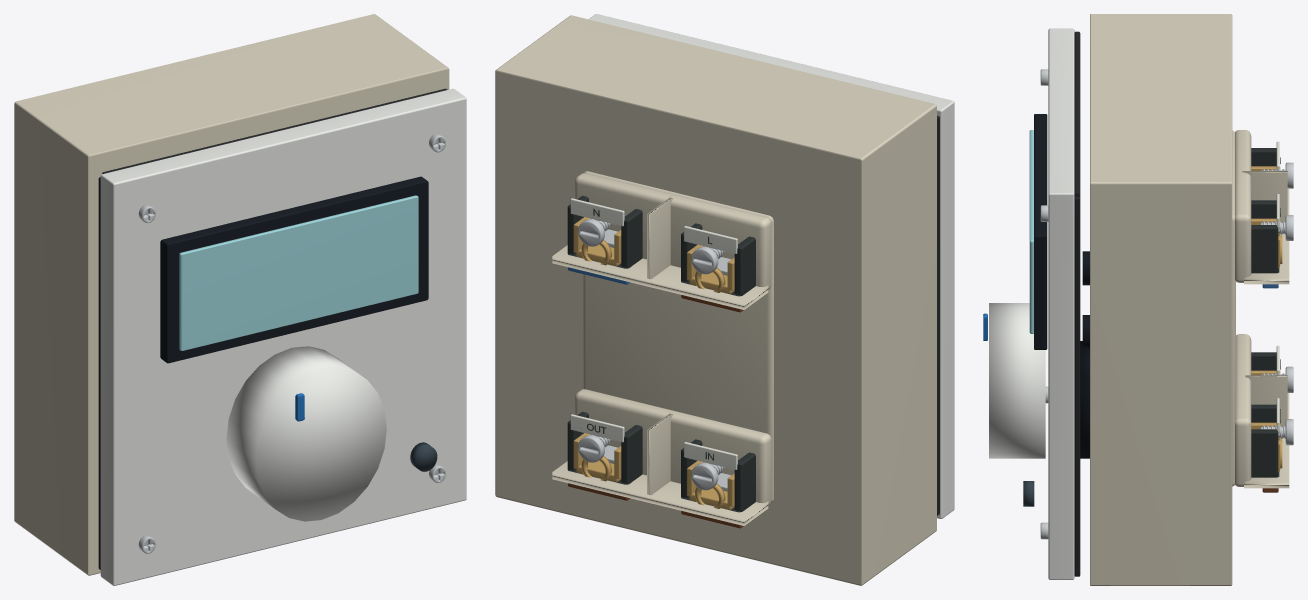
Rendered from smartrelay_default.glb.
The picture shows the model from 3 angles, left to right: view 1: azimuth 30°, elevation 25°; view 2: azimuth 150°, elevation 25°; view 3: azimuth 270°, elevation 25°; orthographic projection. The views are drawn at different scales.
Visible parts, largest first — view 1: part:cover, part:body, part:body.001, part:body.002, detail:enclosure-gasket-and-fixings · Detail rubber gasket, detail:enclosure-gasket-and-fixings · Detail zinc plated fix, part:body.003; view 2: part:body, part:terminals · Original 5a609f27, part:cover, detail:terminal-clamp:OUT · Detail moulded engineering polym, detail:terminal-clamp:N · Detail moulded engineering polymer, detail:terminal-clamp:L · Detail moulded engineering polymer, detail:terminal-clamp:IN · Detail moulded engineering polyme, detail:enclosure-gasket-and-fixings · Detail rubber gasket, detail:terminal-clamp:OUT · Detail machined brass, detail:terminal-clamp:N · Detail machined brass, detail:terminal-clamp:IN · Detail machined brass, detail:terminal-clamp:L · Detail machined brass (+8 smaller); view 3: part:body, part:cover, part:terminals · Original 5a609f27, part:body.002, part:body.001, detail:enclosure-gasket-and-fixings · Detail rubber gasket, detail:terminal-clamp:N · Detail moulded engineering polymer, detail:terminal-clamp:OUT · Detail moulded engineering polym, part:contacts, part:electronics · Original 3ff2d46d, detail:enclosure-gasket-and-fixings · Detail zinc plated fix, detail:terminal-clamp:IN · Detail moulded engineering polyme (+1 smaller).
Boxes of the visible parts, box(x1,y1,x2,y2) form: part:cover: box(100, 88, 466, 585); part:body: box(14, 14, 449, 575); part:body.001: box(160, 176, 428, 363); part:body.002: box(226, 346, 386, 521); detail:enclosure-gasket-and-fixings · Detail rubber gasket: box(98, 88, 447, 569); detail:enclosure-gasket-and-fixings · Detail zinc plated fix: box(138, 133, 445, 553); part:body.003: box(410, 442, 437, 471); part:body: box(495, 15, 936, 585); part:terminals · Original 5a609f27: box(552, 171, 773, 525); part:cover: box(589, 14, 954, 518); detail:terminal-clamp:OUT · Detail moulded engineering polym: box(567, 411, 642, 484); detail:terminal-clamp:N · Detail moulded engineering polymer: box(567, 195, 642, 268); detail:terminal-clamp:L · Detail moulded engineering polymer: box(681, 223, 755, 296); detail:terminal-clamp:IN · Detail moulded engineering polyme: box(681, 439, 755, 512); detail:enclosure-gasket-and-fixings · Detail rubber gasket: box(937, 116, 939, 515); detail:terminal-clamp:OUT · Detail machined brass: box(573, 433, 621, 482); detail:terminal-clamp:N · Detail machined brass: box(573, 217, 621, 266); detail:terminal-clamp:IN · Detail machined brass: box(687, 460, 734, 509); detail:terminal-clamp:L · Detail machined brass: box(687, 244, 734, 293); part:body: box(1090, 14, 1232, 585); part:cover: box(1048, 28, 1074, 579); part:terminals · Original 5a609f27: box(1232, 130, 1289, 488); part:body.002: box(983, 303, 1045, 458); part:body.001: box(1029, 114, 1047, 349); detail:enclosure-gasket-and-fixings · Detail rubber gasket: box(1074, 31, 1080, 576); detail:terminal-clamp:N · Detail moulded engineering polymer: box(1251, 200, 1279, 273); detail:terminal-clamp:OUT · Detail moulded engineering polym: box(1251, 404, 1279, 477); part:contacts: box(1080, 341, 1089, 458); part:electronics · Original 3ff2d46d: box(1082, 251, 1089, 348); detail:enclosure-gasket-and-fixings · Detail zinc plated fix: box(1040, 69, 1048, 539); detail:terminal-clamp:IN · Detail moulded engineering polyme: box(1251, 352, 1276, 370).
Bounding box in the file's own units: 0.7954 × 0.8845 × 0.6161.
